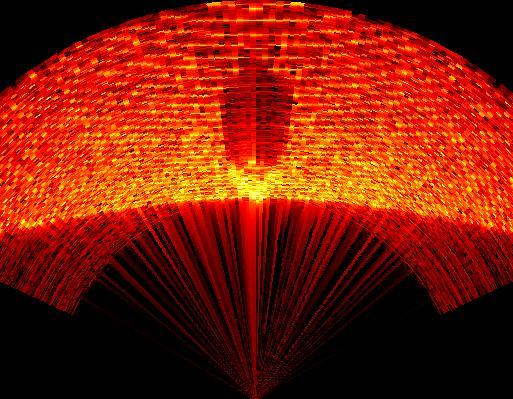box_crate: (220, 55, 298, 203)
